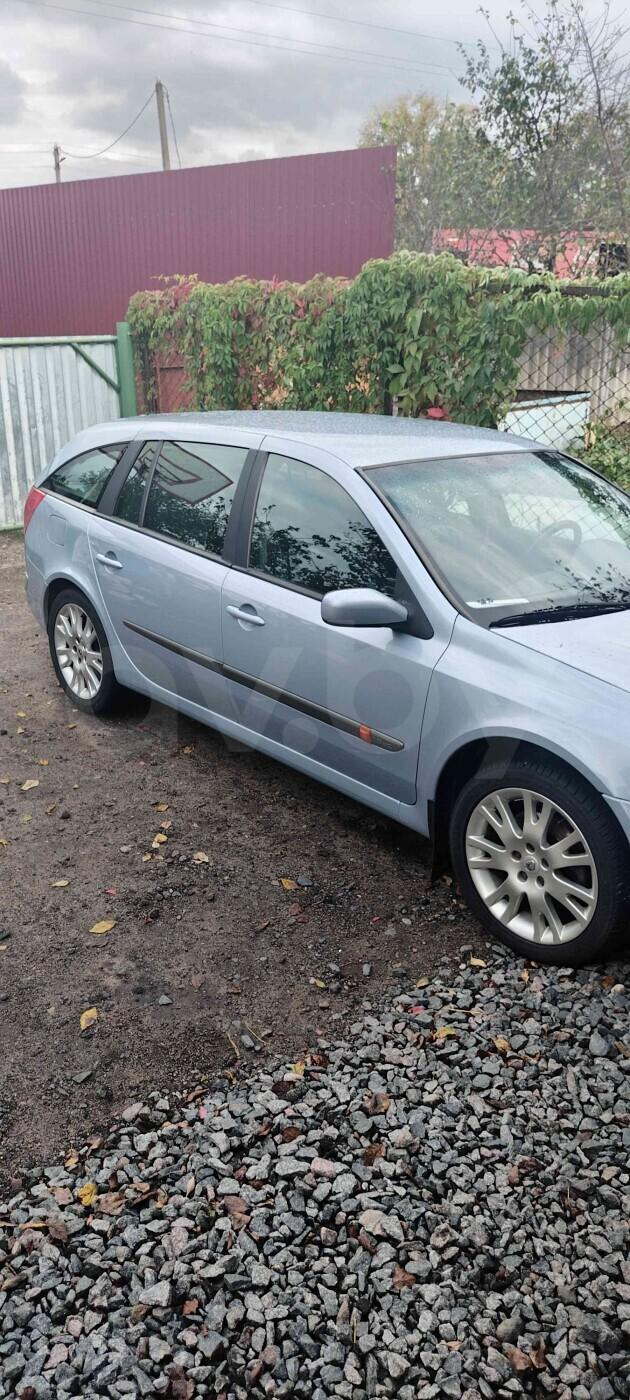Laguna_2001-2005: (24, 411, 629, 966)
